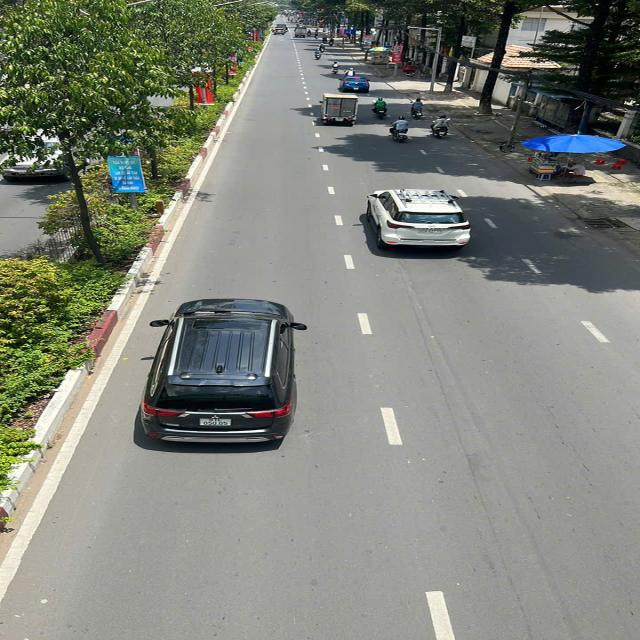ben: (316, 92, 361, 128), (290, 25, 312, 39)
car: (135, 295, 309, 452), (366, 187, 476, 251), (339, 72, 373, 94), (270, 25, 290, 37)
motobyte: (384, 115, 416, 146), (428, 112, 457, 142), (372, 95, 392, 121), (411, 96, 428, 120), (344, 66, 360, 81), (330, 60, 344, 76), (311, 46, 325, 62), (318, 43, 330, 53)
